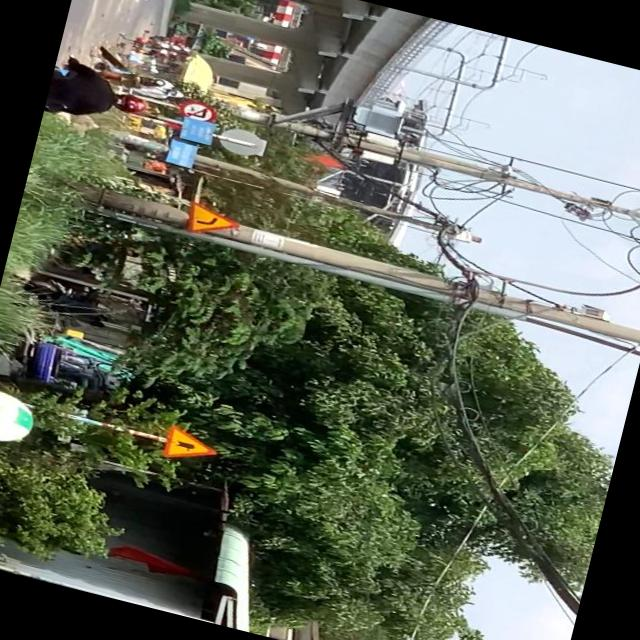W-201a: (184, 200, 240, 240)
W-207b: (160, 420, 223, 470)
